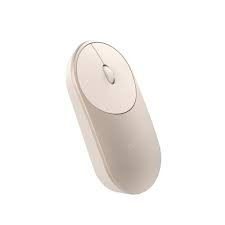mouse: (64, 39, 163, 198)
